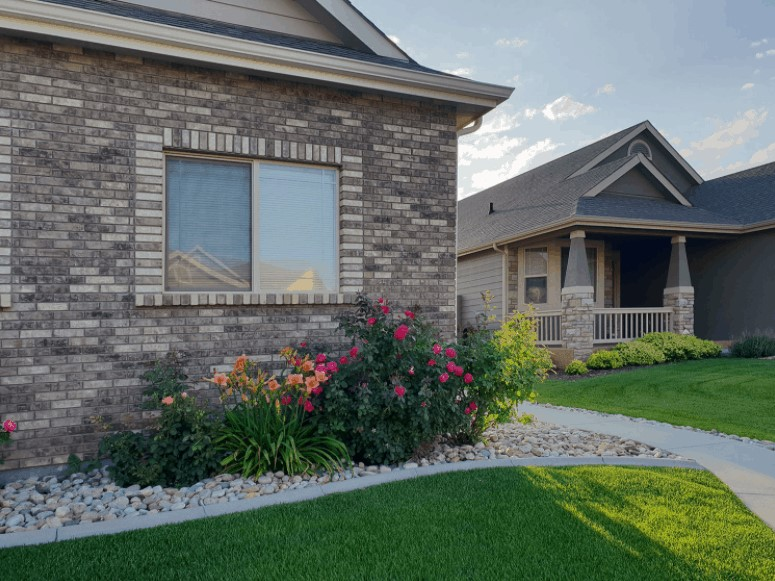grass: (304, 468, 765, 580), (2, 516, 294, 578), (555, 362, 774, 428)
rock: (0, 473, 140, 524), (490, 419, 656, 461), (145, 477, 303, 510)
